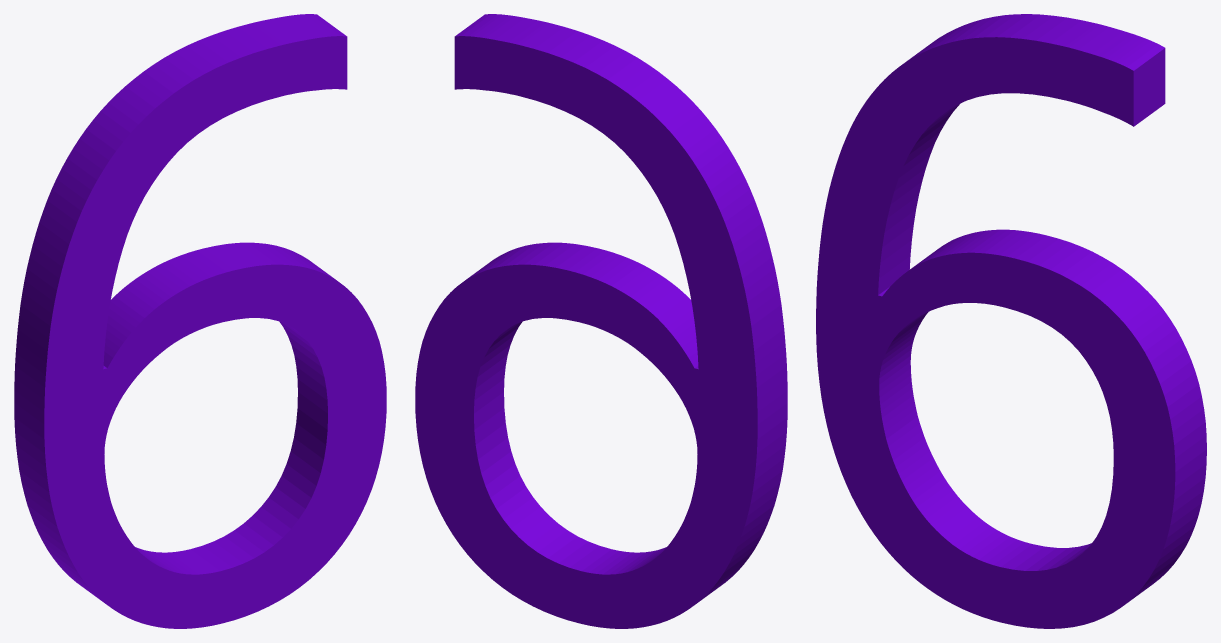
The model's file is 3d-number-6.glb.
3 renders of one model, left to right at view 1: azimuth 30°, elevation 25°; view 2: azimuth 150°, elevation 25°; view 3: azimuth 330°, elevation 25°, orthographic. The views are drawn at different scales.
Visible parts, largest first — view 1: Mesh_Mesh_head_geo.001_lambert2SG.001; view 2: Mesh_Mesh_head_geo.001_lambert2SG.001; view 3: Mesh_Mesh_head_geo.001_lambert2SG.001.
Part boxes in pixels (x1,y1,x2,y2): Mesh_Mesh_head_geo.001_lambert2SG.001: (14, 14, 386, 628); Mesh_Mesh_head_geo.001_lambert2SG.001: (415, 14, 787, 628); Mesh_Mesh_head_geo.001_lambert2SG.001: (816, 14, 1206, 628).
Size of the model in its own units: 0.0328 by 0.0516 by 0.005.
